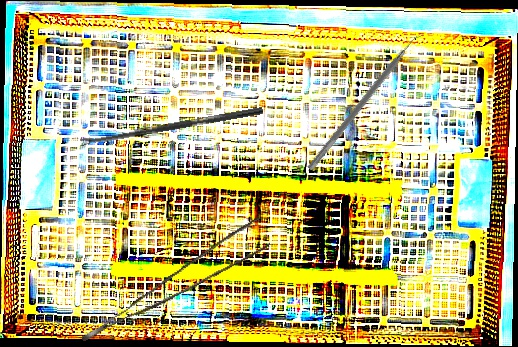Spatula Surgical: (307, 28, 426, 176)
Surgical Spoon: (79, 105, 264, 147)
Tissue Forceps: (66, 217, 276, 342)
